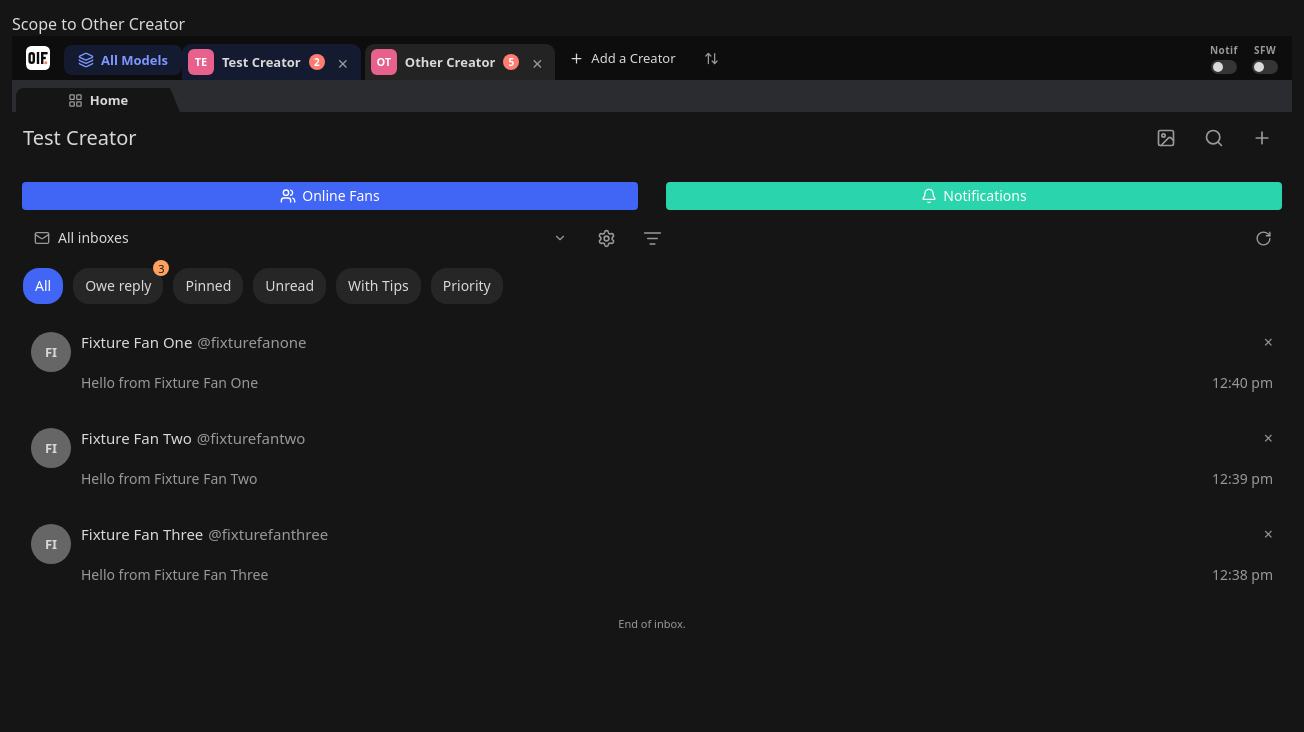
Scenario: the Messages Pro page › clicking a Creator tab switches the Fan List to that Creator and selects its tab
The image size is (1304, 732).
Expected: the text "Fixture Fan Three" is shown, [81,524,203,545]
Expected: the heading "Test Creator" is shown, [23,124,137,151]
Click the tab named "Other Creator 5 unread": x=445, y=62 [371,44,519,80]
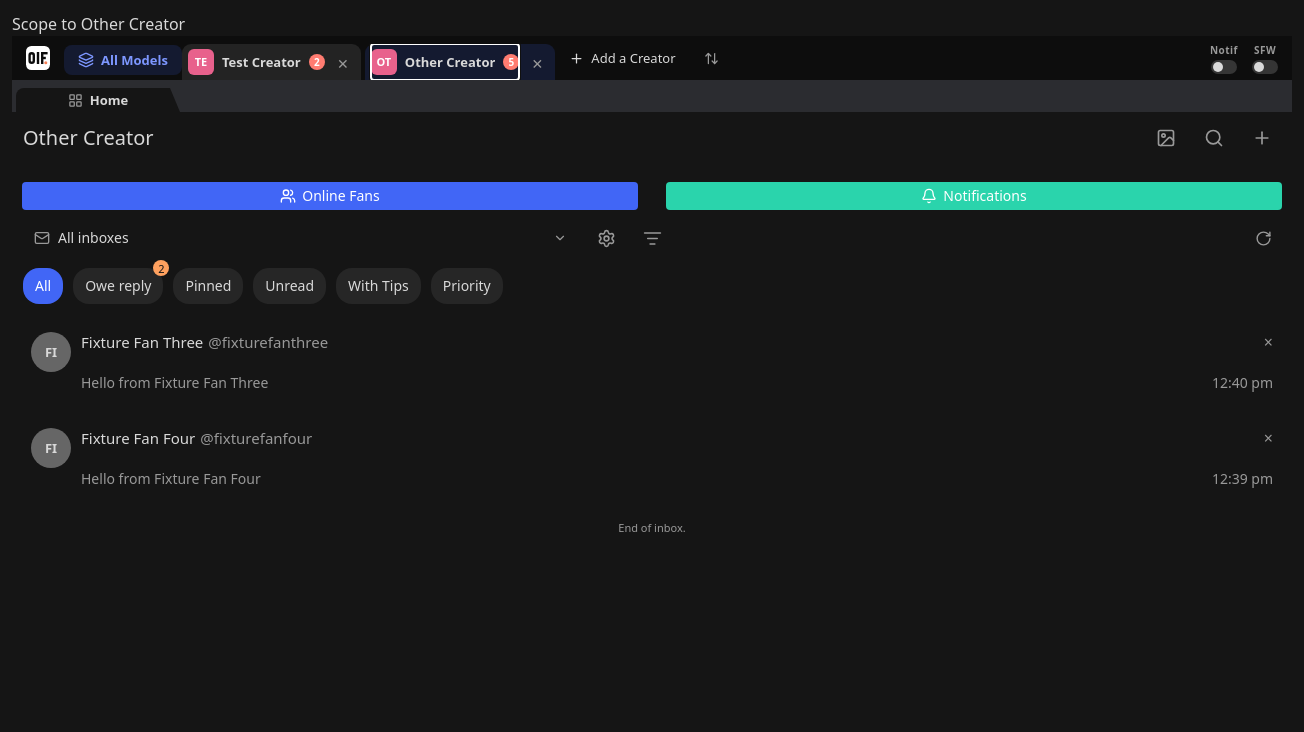
Expected: the heading "Other Creator" is shown, [23,124,154,151]
